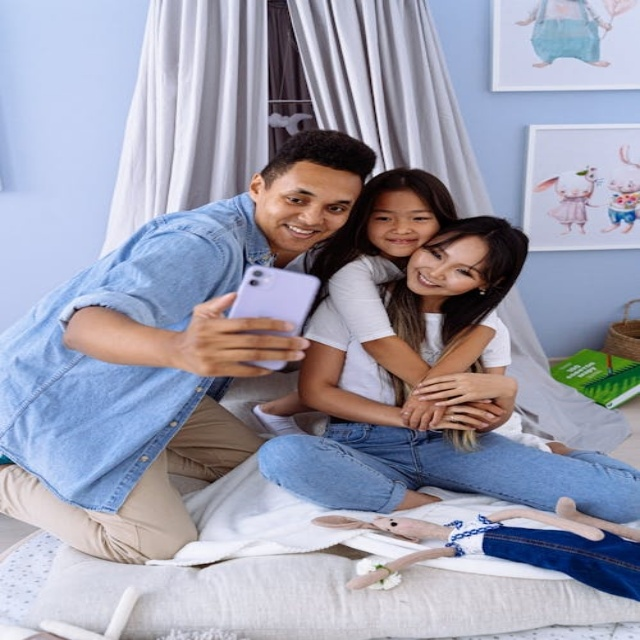Sin_gafas: (279, 187, 353, 217), (425, 243, 479, 277), (367, 205, 434, 228)
Sin_guantes: (175, 291, 315, 380), (416, 400, 508, 435), (413, 370, 520, 399), (394, 371, 444, 430)
Sin_mascara: (406, 266, 449, 296), (275, 221, 323, 247), (376, 233, 417, 253)
